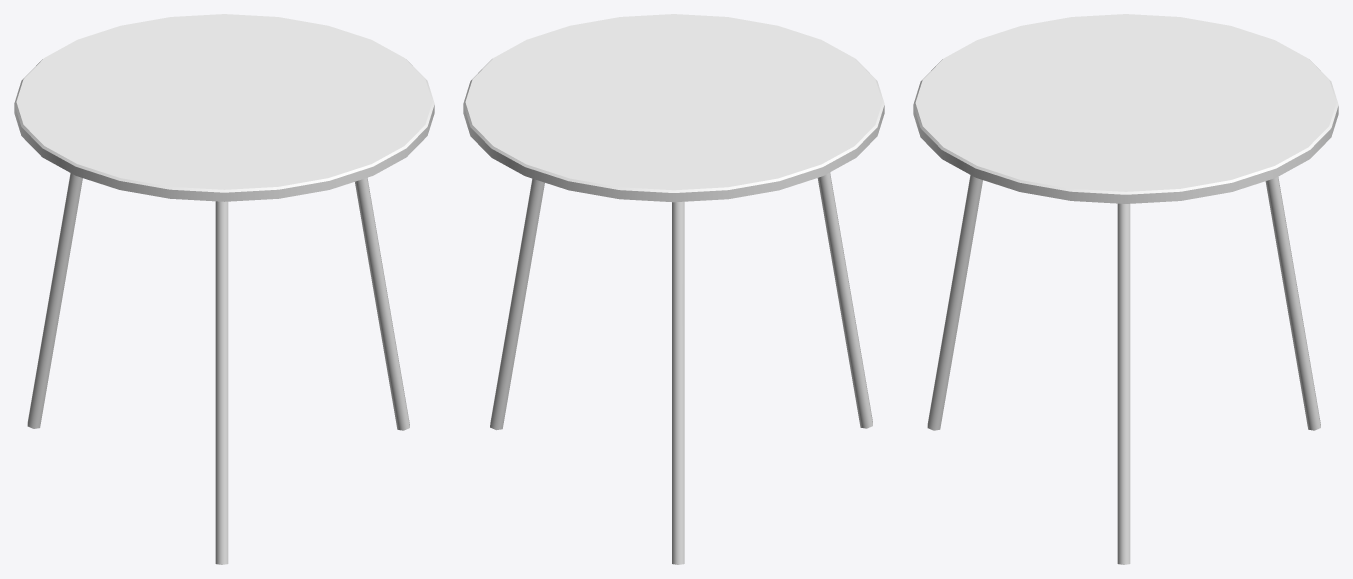
File: Stool_01.fbx
The picture shows the model from 3 angles, left to right: view 1: azimuth 30°, elevation 25°; view 2: azimuth 150°, elevation 25°; view 3: azimuth 270°, elevation 25°; orthographic projection.
Visible parts, largest first — view 1: Stool_01; view 2: Stool_01; view 3: Stool_01.
Part boxes in pixels (box(x1,y1,x2,y2)): Stool_01: box(14, 14, 434, 564); Stool_01: box(463, 14, 884, 564); Stool_01: box(913, 14, 1338, 564).
Bounding box in the file's own units: 13.87 × 13.34 × 13.78.
